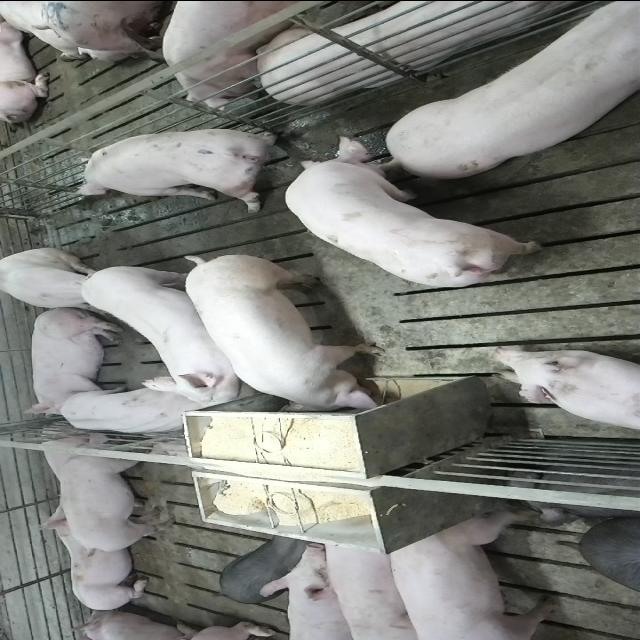Feeding: (178, 256, 398, 420)
Lateral_lying: (221, 0, 591, 103), (20, 305, 126, 416)
Sitting: (1, 247, 114, 310)
Standing: (383, 0, 639, 175), (285, 140, 547, 293), (77, 260, 257, 398), (383, 506, 562, 638), (72, 125, 291, 211), (164, 0, 314, 106), (58, 429, 182, 554), (320, 536, 428, 638), (257, 543, 359, 640)
Sternal_lying: (488, 348, 640, 434), (32, 510, 156, 611)
